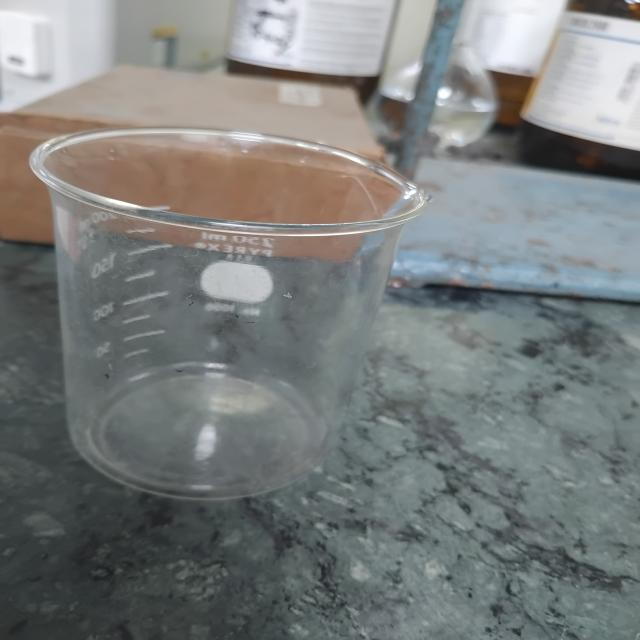Beaker: (17, 114, 430, 520)
